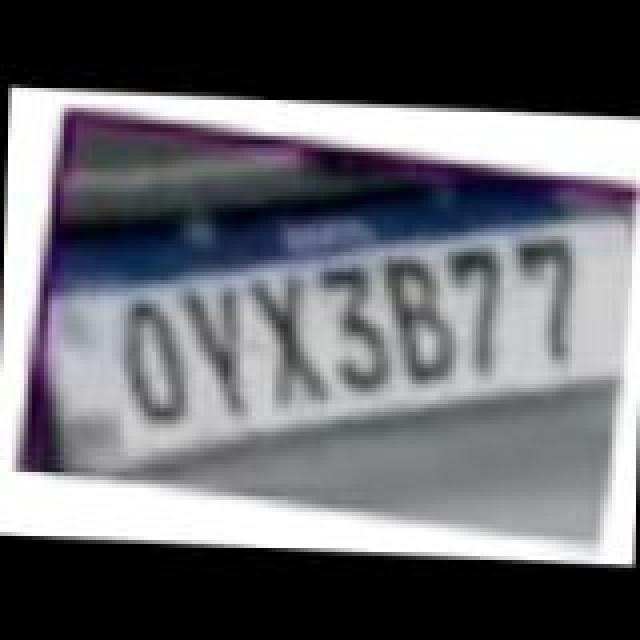3: (308, 262, 396, 398)
7: (434, 240, 518, 376), (508, 232, 592, 364)
B: (370, 252, 462, 388)
O: (114, 296, 194, 432)
X: (244, 274, 340, 414)
Y: (178, 280, 258, 420)
